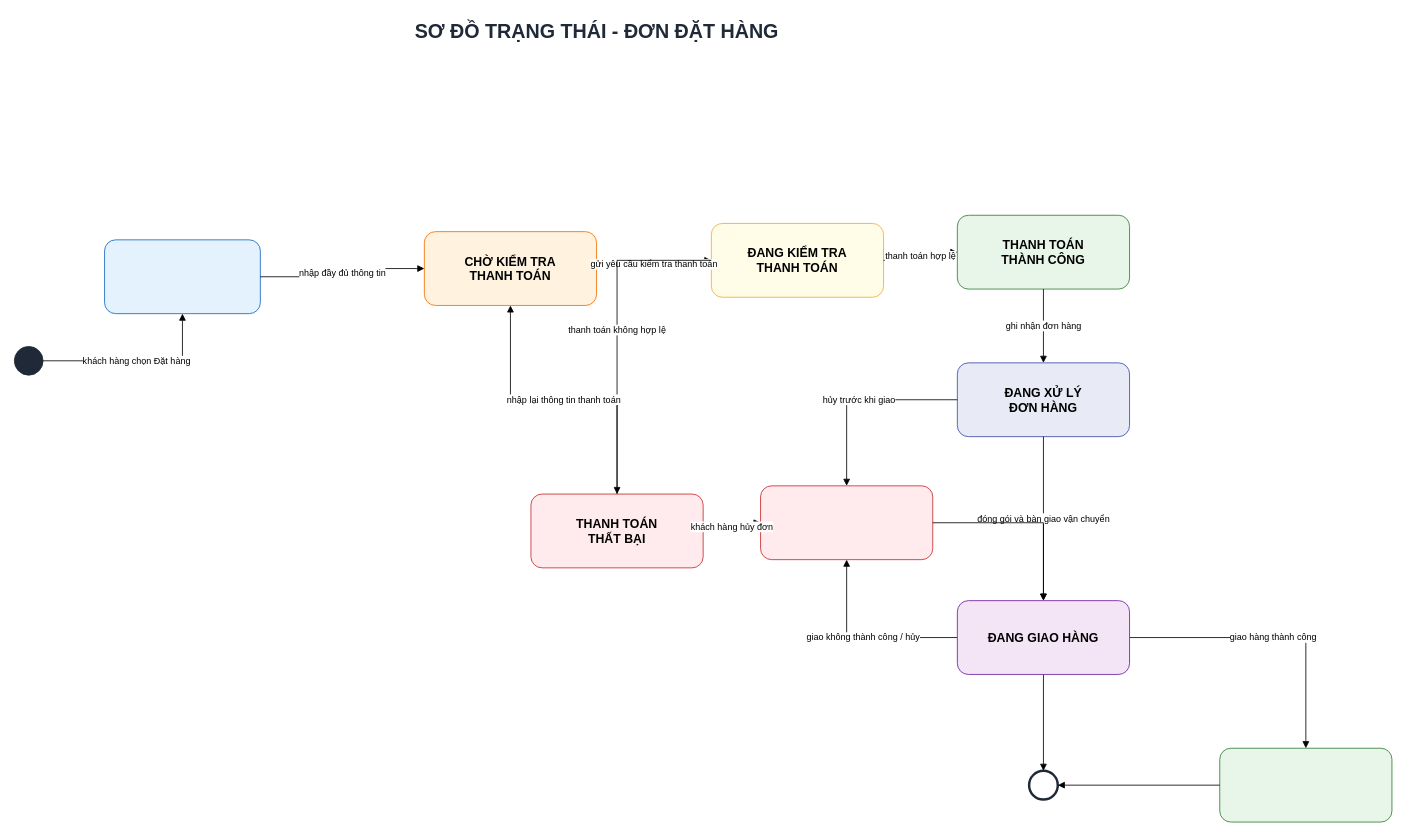
Image size: 1406x836. Some labels were removed from this diagram. The centre of each missing label's shape, as x and y in pixels:
"HOÀN TẤT ĐƠN HÀNG" goes at [1305,784].
"HỦY ĐƠN HÀNG" goes at [846,522].
"TẠO ĐƠN ĐẶT HÀNG" goes at [182,276].
